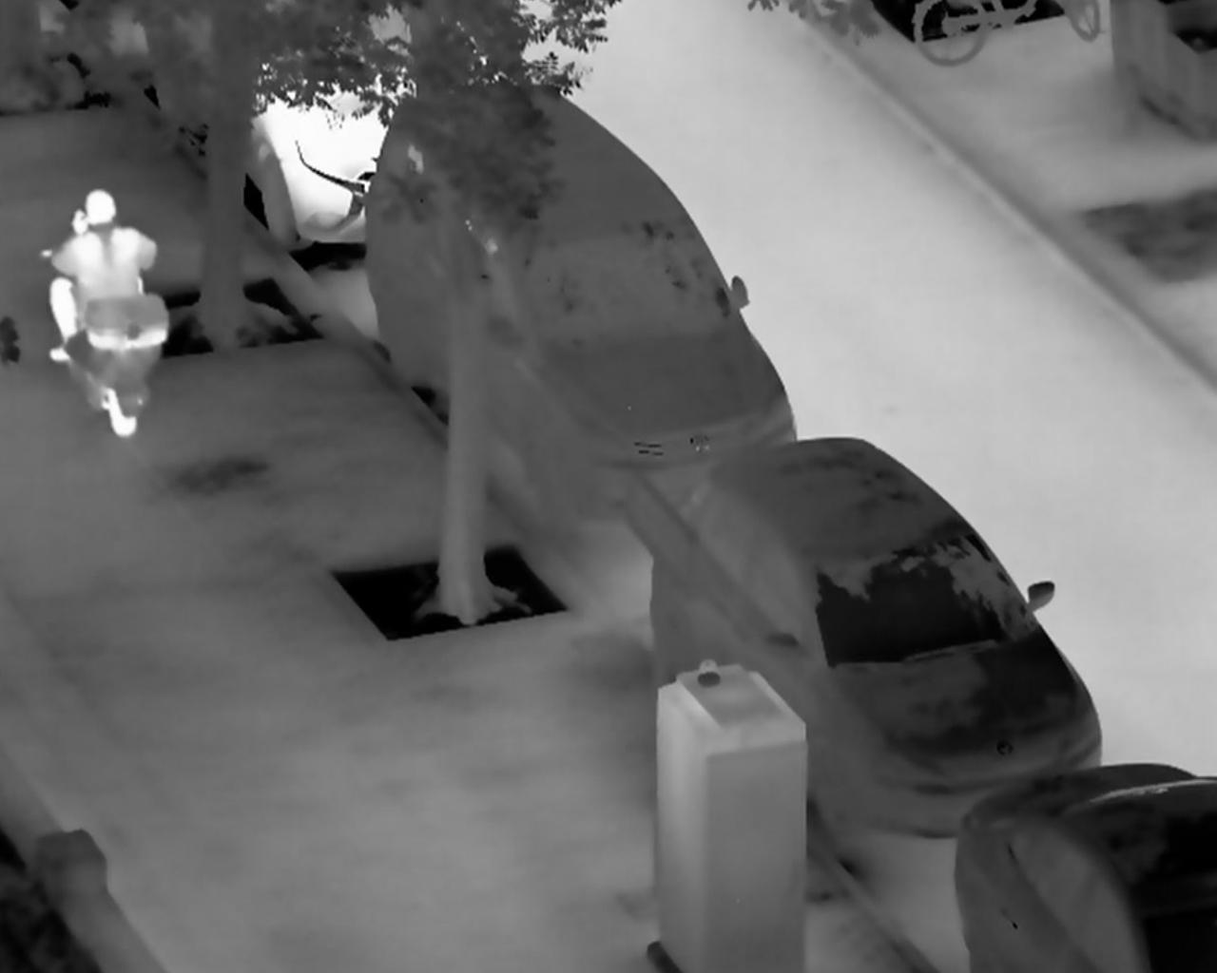person: (36, 186, 162, 368)
